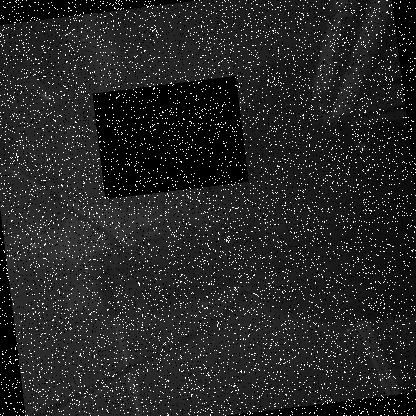mako-shark: (91, 76, 248, 200)
